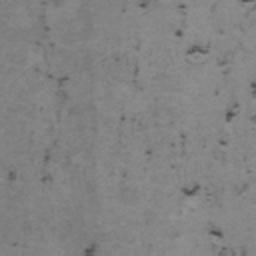Oxide scale of temperature system: (111, 0, 256, 196), (8, 0, 83, 184), (207, 228, 251, 256), (82, 242, 100, 256), (119, 113, 127, 123)
